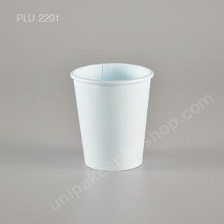paper_cup: (66, 57, 158, 174)
